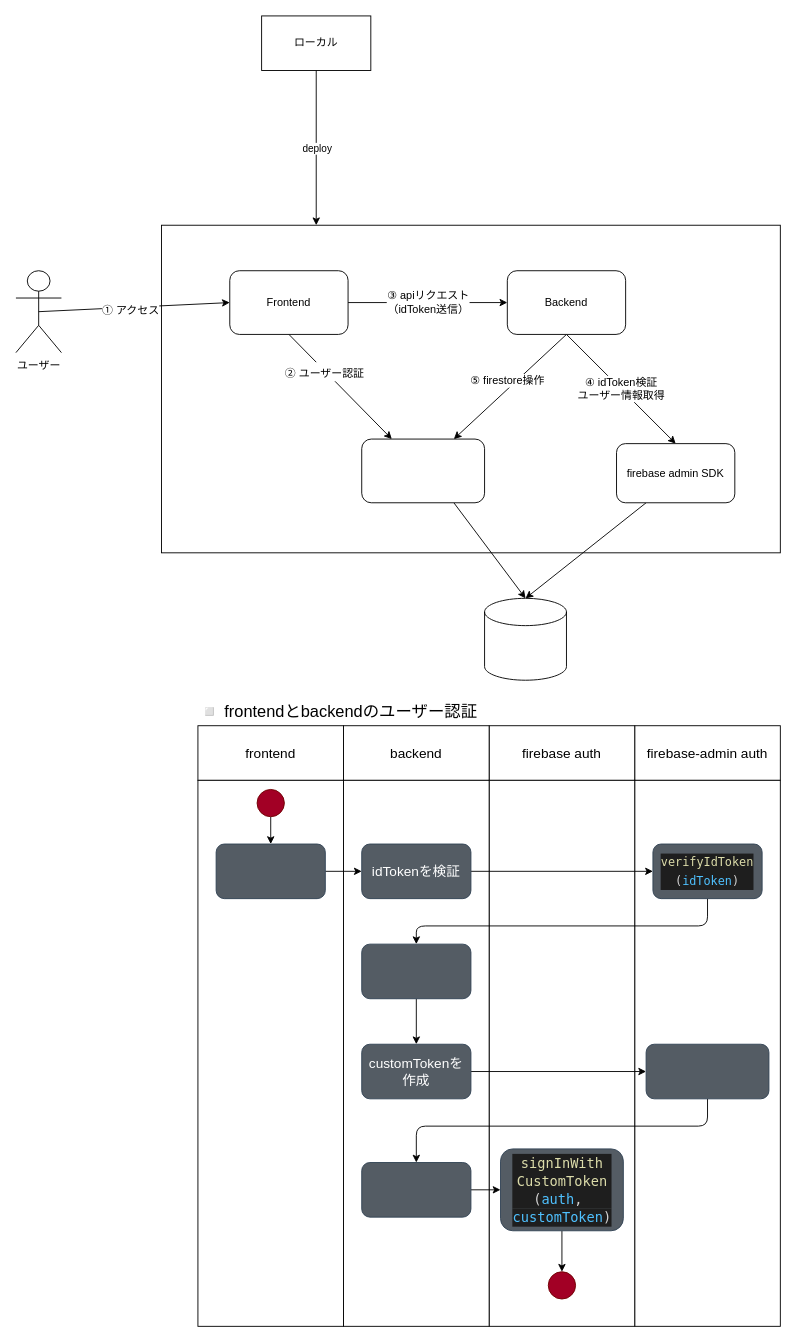
The diagram is 796 pixels wide and 1342 high, and some of its shapes have lost their labels. The shapes that lost their labels are listed below. From the top down, each one's box as (x1, y1, x2, y2) in pixels, then its label:
(161, 224, 780, 553): Clourd Run
(361, 438, 485, 503): firebase SDK
(484, 597, 566, 680): Firestore
(215, 843, 325, 899): idTokenを取得
(361, 943, 471, 999): uidを取得
(645, 1043, 769, 1099): createCustomToken ( uid)
(361, 1162, 471, 1217): customTokenで サインイン
